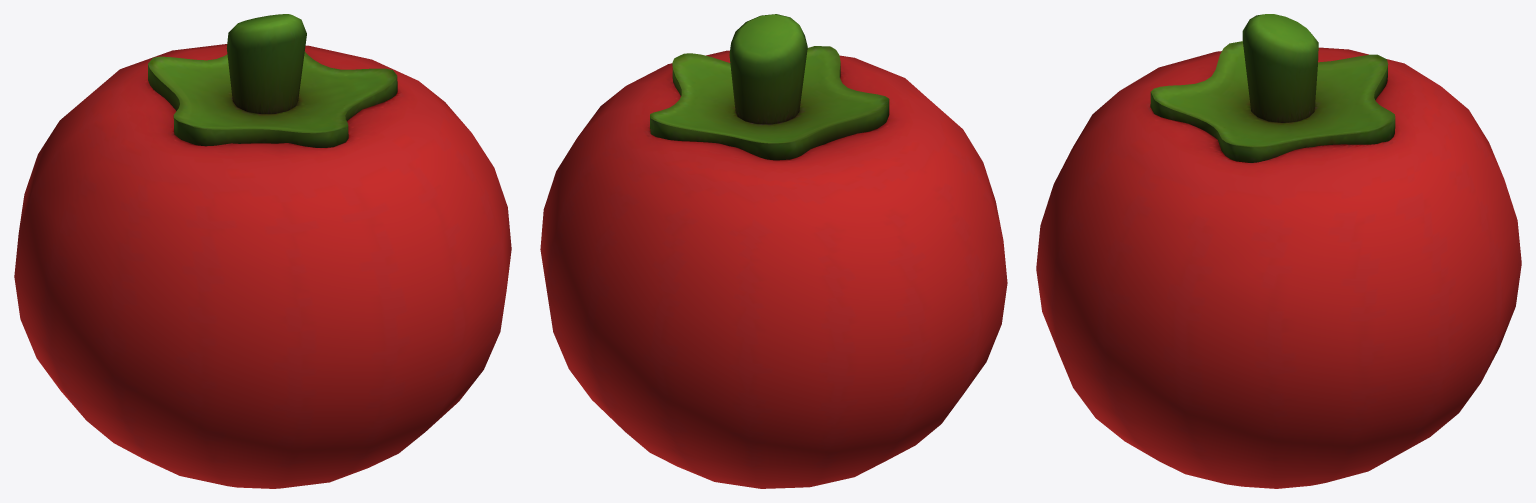
Rendered from 0-tomato.fbx.
3 renders of one model, left to right at view 1: azimuth 30°, elevation 25°; view 2: azimuth 150°, elevation 25°; view 3: azimuth 270°, elevation 25°, orthographic. The views are drawn at different scales.
Visible parts, largest first — view 1: 0-tomato; view 2: 0-tomato; view 3: 0-tomato.
Part boxes in pixels (bbox=[...]): 0-tomato: bbox=[14, 14, 511, 488]; 0-tomato: bbox=[540, 14, 1007, 488]; 0-tomato: bbox=[1036, 14, 1521, 488].
Bounding box in the file's own units: 91.49 × 92.41 × 90.46.
